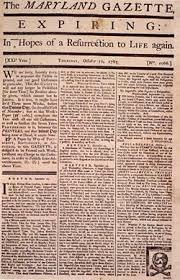Printing industry: (1, 1, 180, 280)
